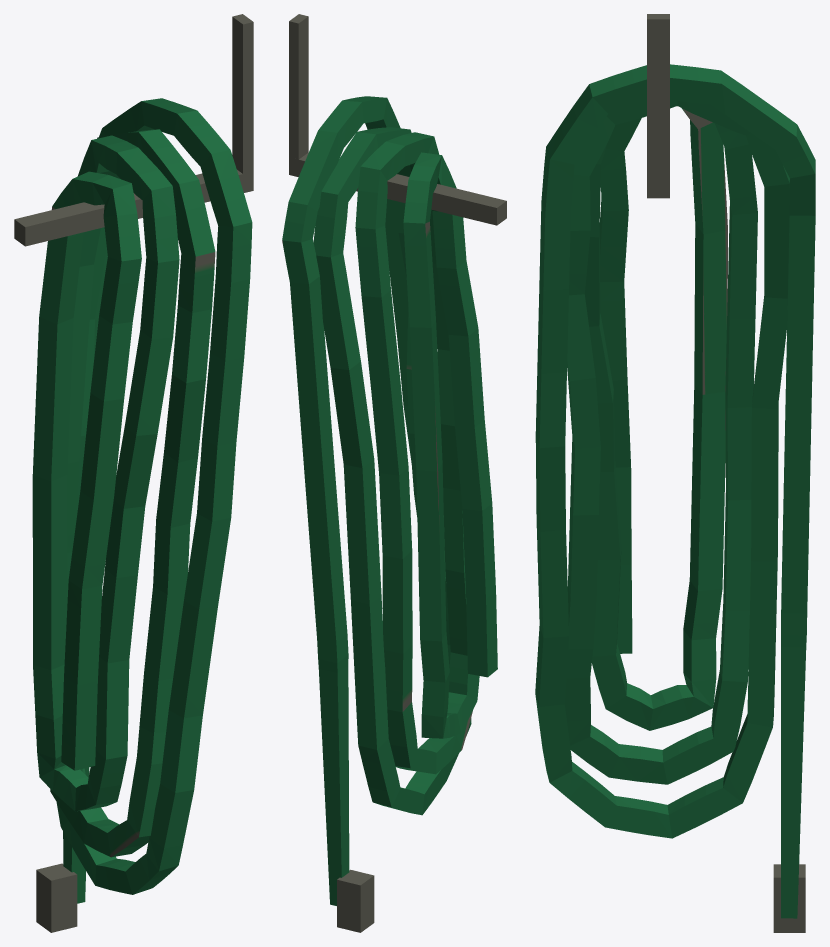
Rendered from Manguera.obj.
3 views of the same model, side by side, from view 1: azimuth 30°, elevation 25°; view 2: azimuth 150°, elevation 25°; view 3: azimuth 270°, elevation 25° (orthographic). The views are drawn at different scales.
Visible parts, largest first — view 1: Cube.024_Cube.025; view 2: Cube.024_Cube.025; view 3: Cube.024_Cube.025.
Part boxes in pixels (box(x1,y1,x2,y2)): Cube.024_Cube.025: box(14, 14, 253, 932); Cube.024_Cube.025: box(282, 14, 506, 932); Cube.024_Cube.025: box(535, 14, 815, 932).
Bounding box in the file's own units: 3.28 × 12.62 × 3.29.
1 material, 1 textured.
